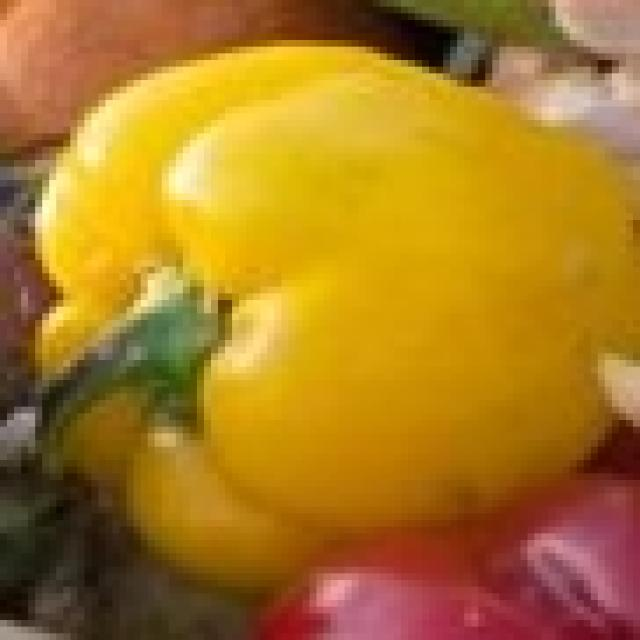food waste: (28, 0, 633, 607)
